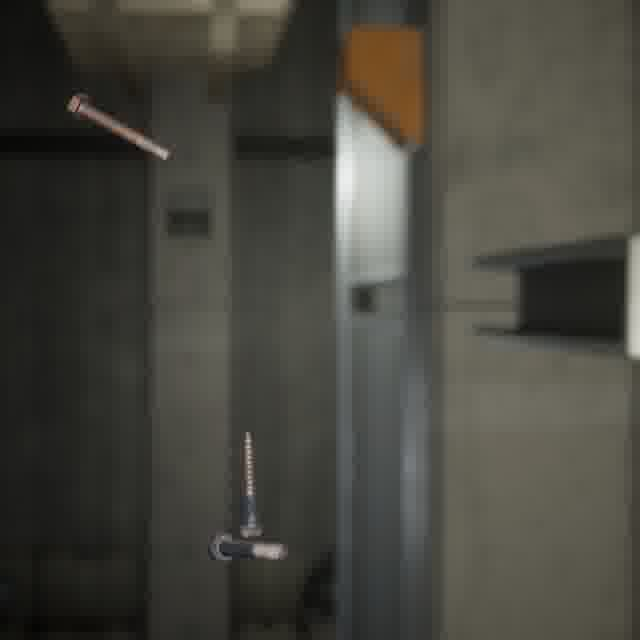bolt: (63, 89, 177, 167), (235, 427, 266, 541), (201, 528, 293, 565)
